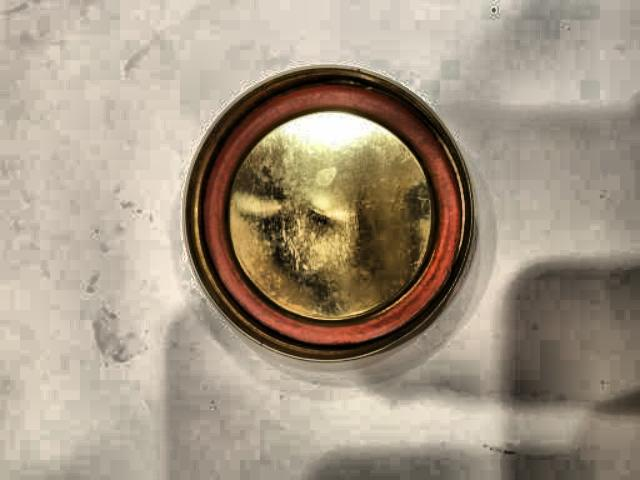Almennt: (166, 45, 508, 390)
